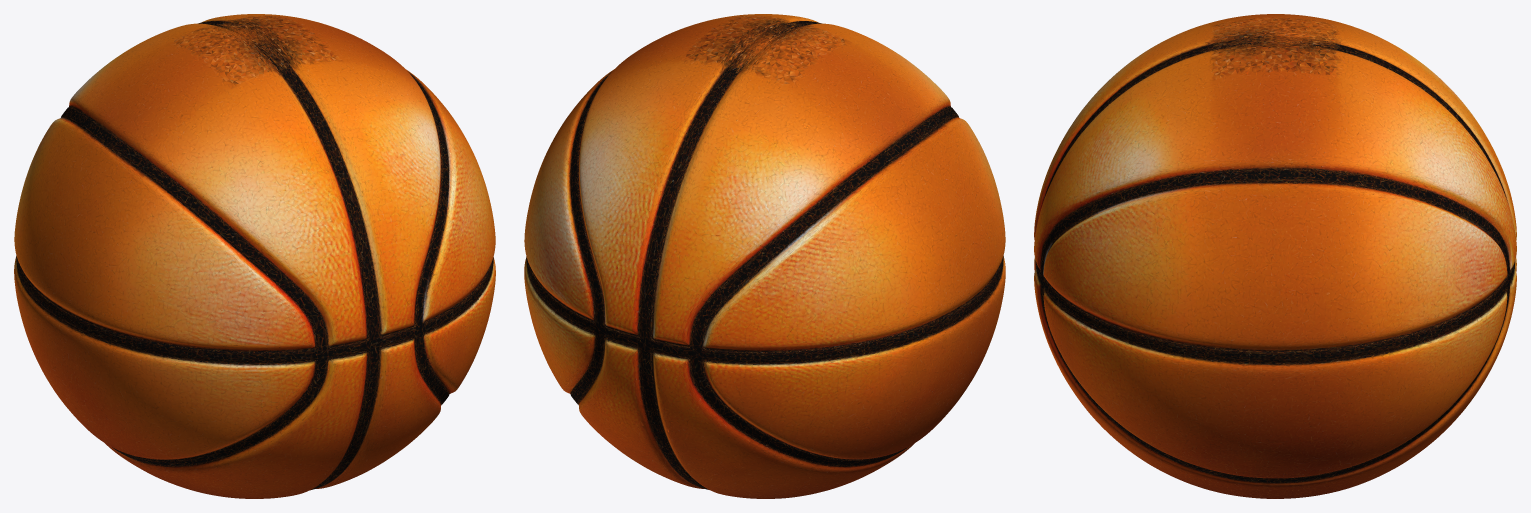
File: Orange_ball_new_opt.glb
3 renders of one model, left to right at view 1: azimuth 30°, elevation 25°; view 2: azimuth 150°, elevation 25°; view 3: azimuth 270°, elevation 25°, orthographic.
Visible parts, largest first — view 1: 9-h5k-vPeNJH8_lBZjeBB; view 2: 9-h5k-vPeNJH8_lBZjeBB; view 3: 9-h5k-vPeNJH8_lBZjeBB.
Boxes of the visible parts, x1=… form: 9-h5k-vPeNJH8_lBZjeBB: x1=14, y1=14, x2=495, y2=498; 9-h5k-vPeNJH8_lBZjeBB: x1=524, y1=14, x2=1005, y2=498; 9-h5k-vPeNJH8_lBZjeBB: x1=1034, y1=14, x2=1516, y2=498.
Size of the model in its own units: 1.18 by 1.19 by 1.19.
1 material, 1 textured.
